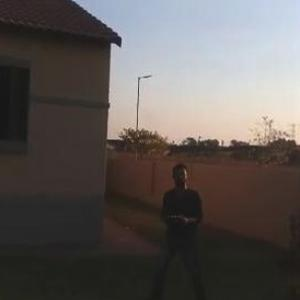follow: (142, 152, 209, 299)
